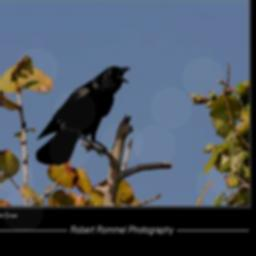Crow: (35, 63, 130, 164)
